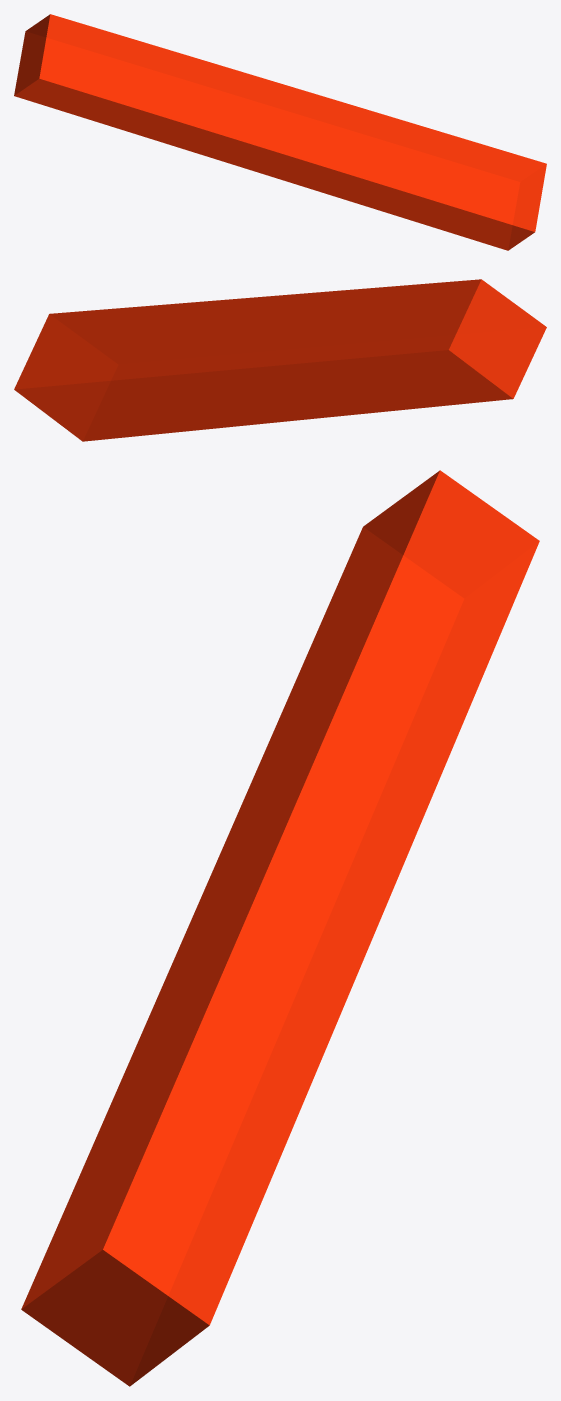
File: Event_421278790_EBrechit_29.fbx
The picture shows the model from 3 angles, top to bottom: view 1: azimuth 30°, elevation 25°; view 2: azimuth 150°, elevation 25°; view 3: azimuth 270°, elevation 25°; orthographic projection. The views are drawn at different scales.
Visible parts, largest first — view 1: Model; view 2: Model; view 3: Model.
Part boxes in pixels (left/top/right/bottom): Model: left=14, top=14, right=546, bottom=250; Model: left=14, top=279, right=546, bottom=441; Model: left=21, top=470, right=539, bottom=1386.
Bounding box in the file's own units: 0.4465 × 0.2629 × 0.2266.
